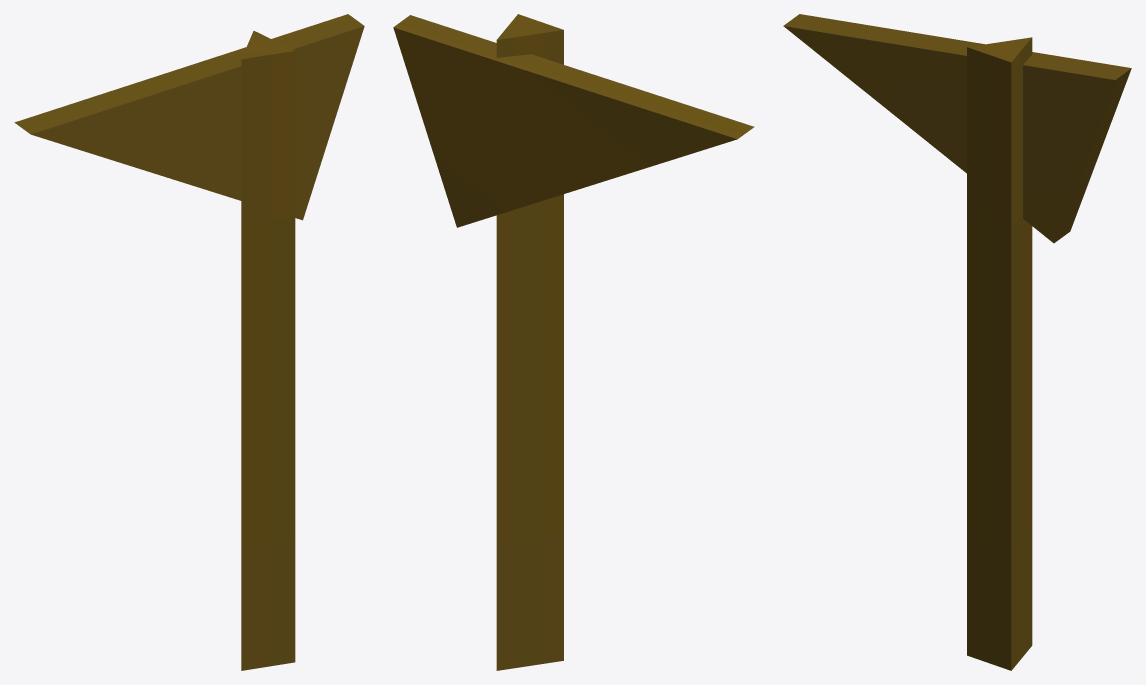
The model's file is znak.glb.
3 renders of one model, left to right at view 1: azimuth 30°, elevation 25°; view 2: azimuth 150°, elevation 25°; view 3: azimuth 330°, elevation 25°, orthographic. The views are drawn at different scales.
Visible parts, largest first — view 1: Cube.001; view 2: Cube.001; view 3: Cube.001.
Boxes of the visible parts, x1=… form: Cube.001: x1=14, y1=14, x2=364, y2=670; Cube.001: x1=393, y1=14, x2=754, y2=670; Cube.001: x1=783, y1=14, x2=1131, y2=670.
Bounding box in the file's own units: 1.97 × 3.45 × 0.3482.
1 material, 1 textured.
